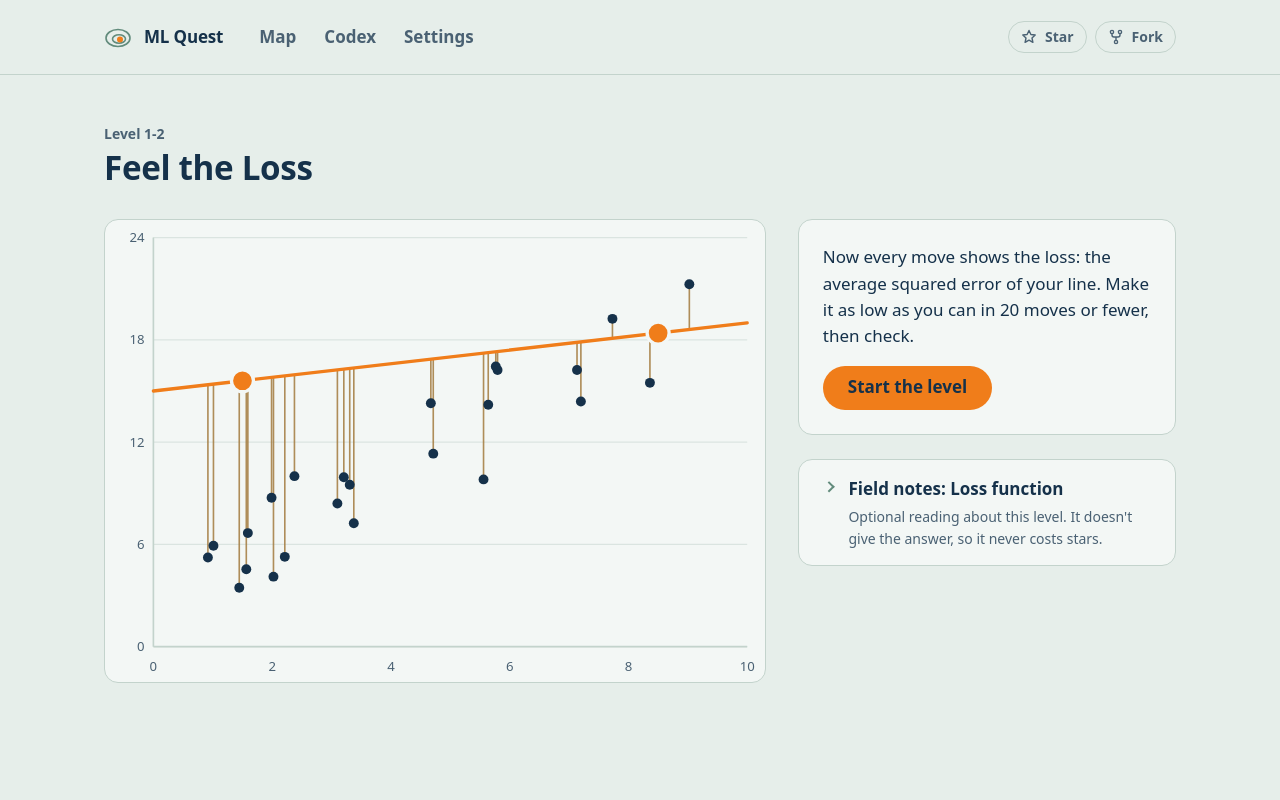
Test: App › Feel the Loss: every move updates the loss meter and the move count
Click the button "Start the level".
click(907, 388)  # box left=823, top=366, right=992, bottom=410
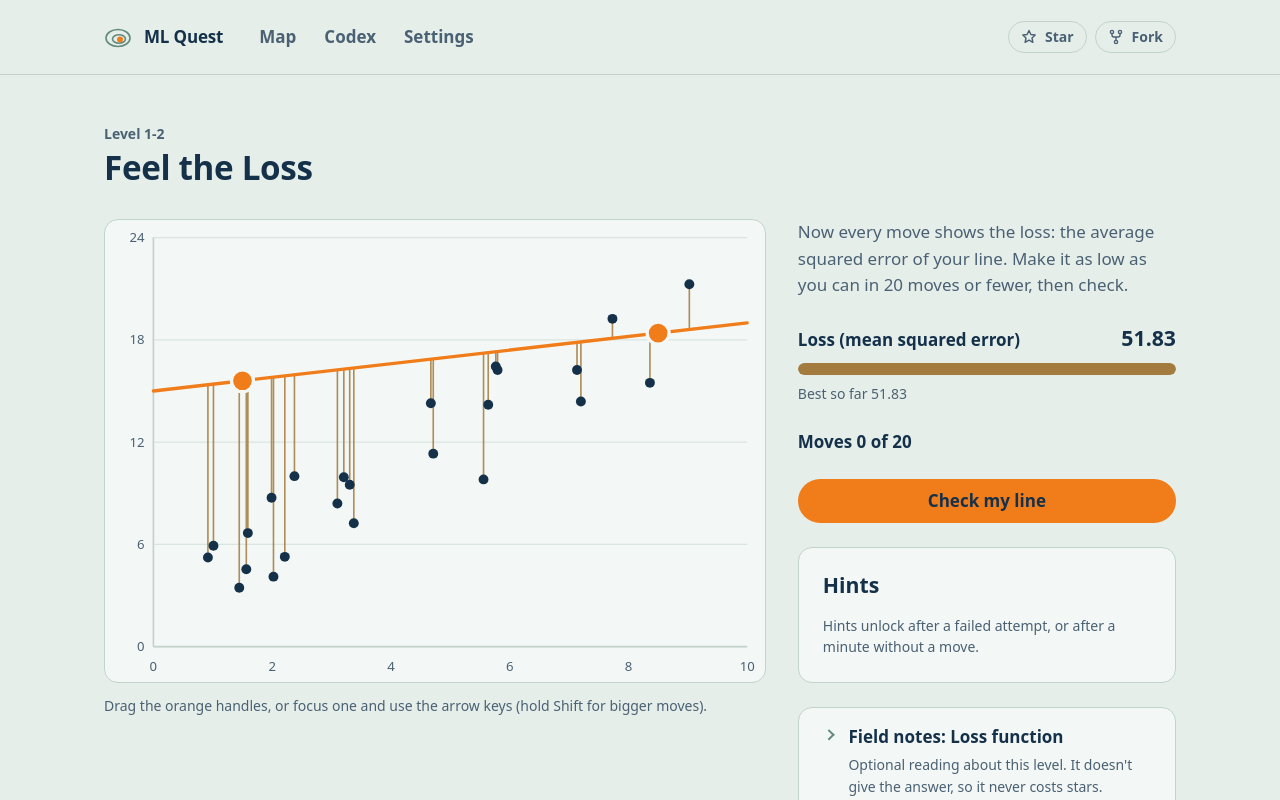
Now the text "Moves 0 of 20" is shown, box left=798, top=430, right=912, bottom=453
// The starting line's left end sits far above the data (≈15.6 vs ≈5.7), so lowering it helps.
Press ArrowDown in the slider labelled "Left end of the line", box left=216, top=355, right=269, bottom=407
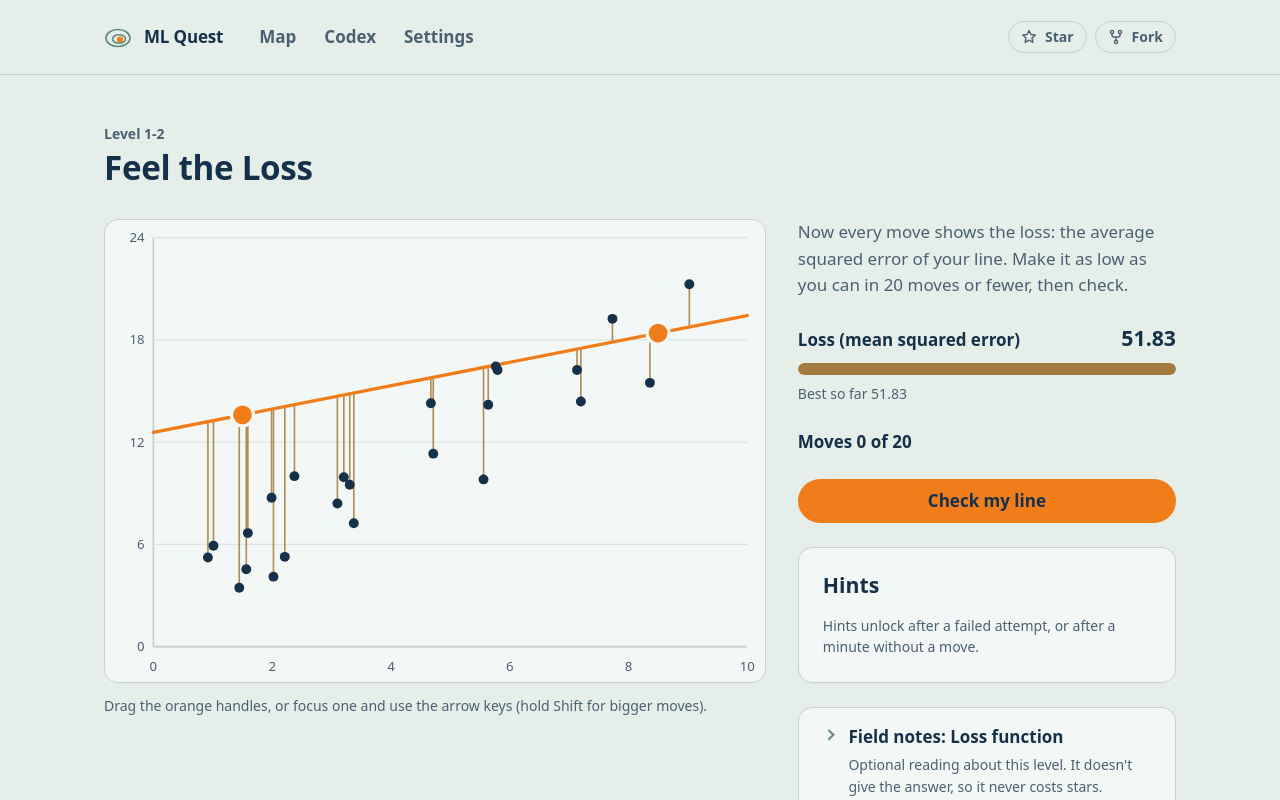
Leave the slider labelled "Left end of the line", box left=216, top=389, right=269, bottom=442
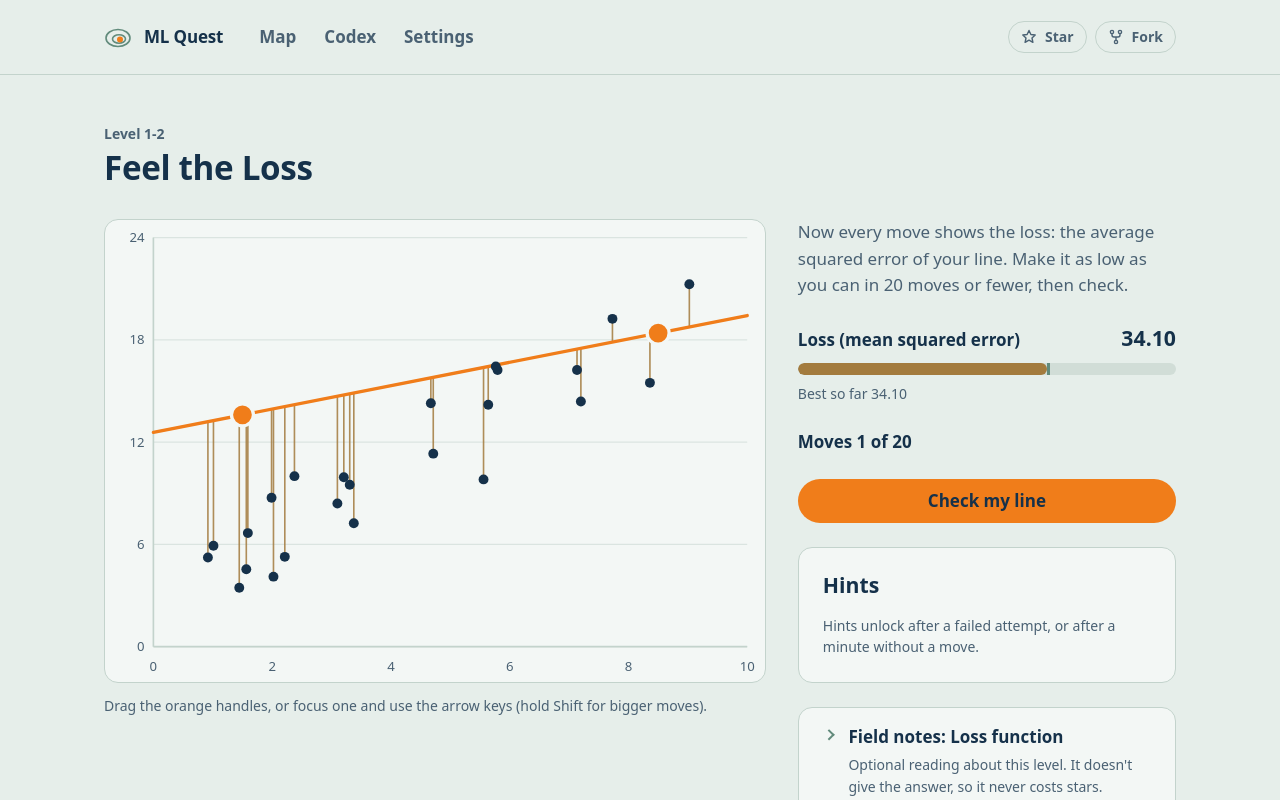
Now the text "Moves 1 of 20" is shown, box left=798, top=430, right=912, bottom=453
